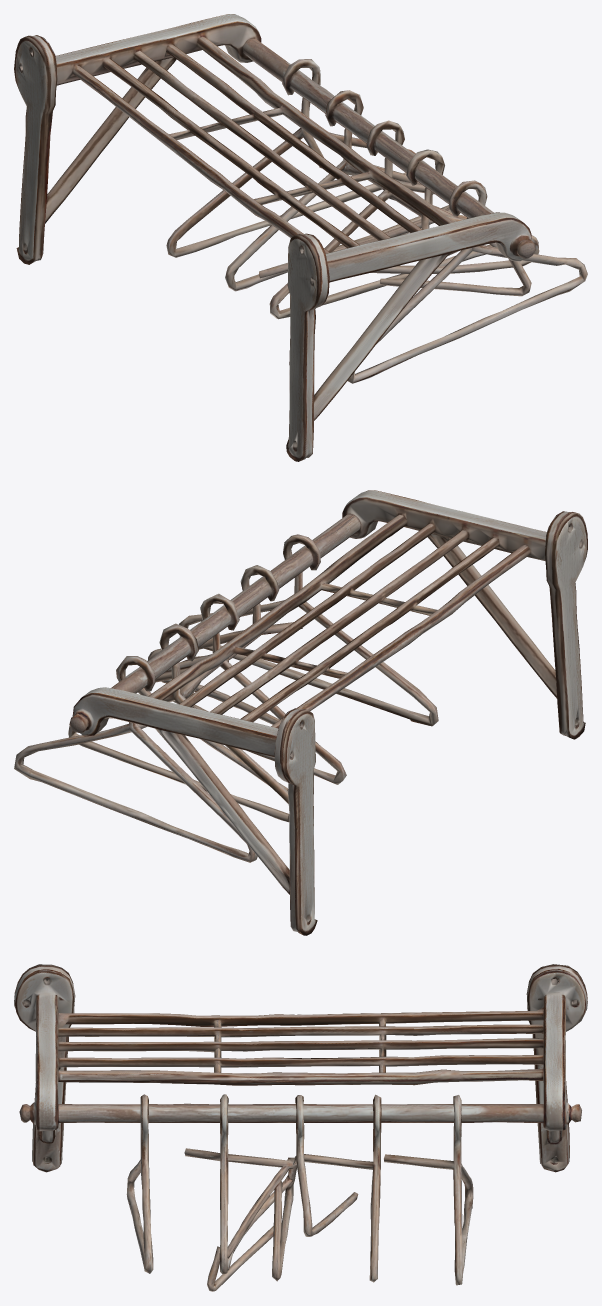
The model's file is kit_wall_clothes_rail.glb.
3 renders of one model, top to bottom at view 1: azimuth 30°, elevation 25°; view 2: azimuth 150°, elevation 25°; view 3: azimuth 270°, elevation 25°, orthographic. The views are drawn at different scales.
Parts seen in each view (by area): view 1: tripo_node_4e4de4ad-5b91-487d-991e-f045b004dc69; view 2: tripo_node_4e4de4ad-5b91-487d-991e-f045b004dc69; view 3: tripo_node_4e4de4ad-5b91-487d-991e-f045b004dc69.
Boxes of the visible parts, left/top/right/bottom form: tripo_node_4e4de4ad-5b91-487d-991e-f045b004dc69: left=14, top=14, right=587, bottom=461; tripo_node_4e4de4ad-5b91-487d-991e-f045b004dc69: left=14, top=490, right=587, bottom=935; tripo_node_4e4de4ad-5b91-487d-991e-f045b004dc69: left=14, top=964, right=587, bottom=1291.
Bounding box in the file's own units: 0.658 × 0.3992 × 1.
1 material, 1 textured.
